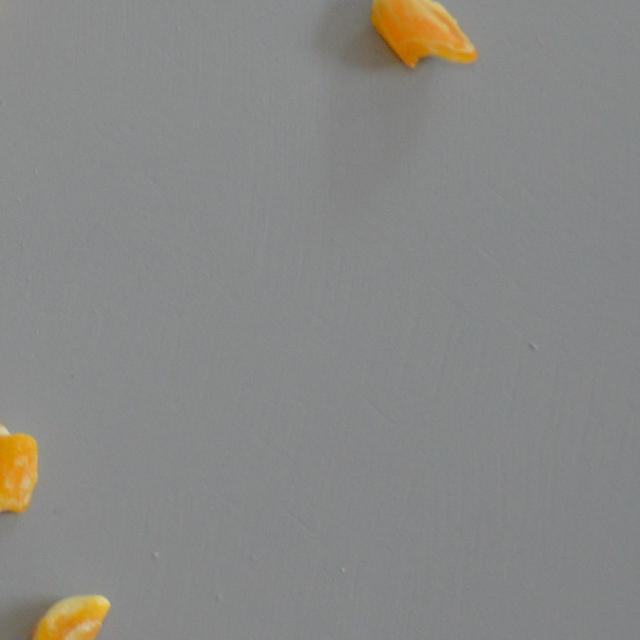dañado: (366, 0, 482, 76), (24, 587, 113, 640), (0, 418, 41, 525)
